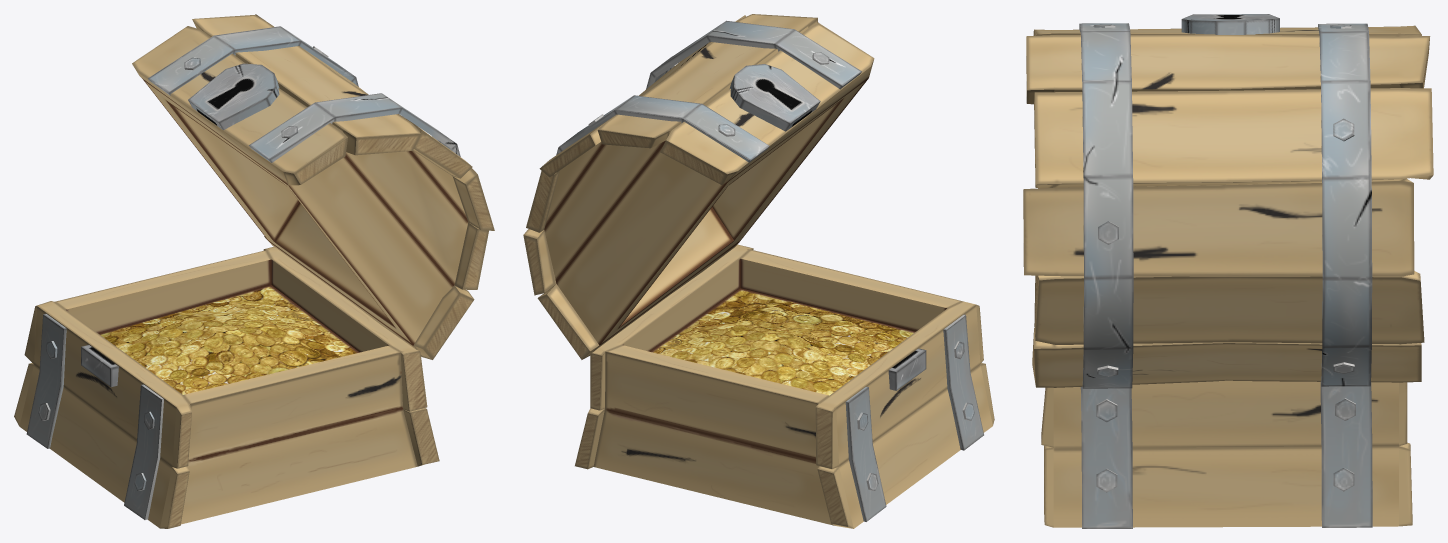
The model's file is chest_open.obj.
3 views of the same model, side by side, from view 1: azimuth 30°, elevation 25°; view 2: azimuth 150°, elevation 25°; view 3: azimuth 270°, elevation 25° (orthographic). The views are drawn at different scales.
Parts seen in each view (by area): view 1: polySurface7; view 2: polySurface7; view 3: polySurface7.
Boxes of the visible parts, x1=… form: polySurface7: x1=14, y1=14, x2=494, y2=528; polySurface7: x1=523, y1=14, x2=994, y2=528; polySurface7: x1=1023, y1=14, x2=1433, y2=528.
Size of the model in its own units: 2.75 by 2.87 by 2.38.
